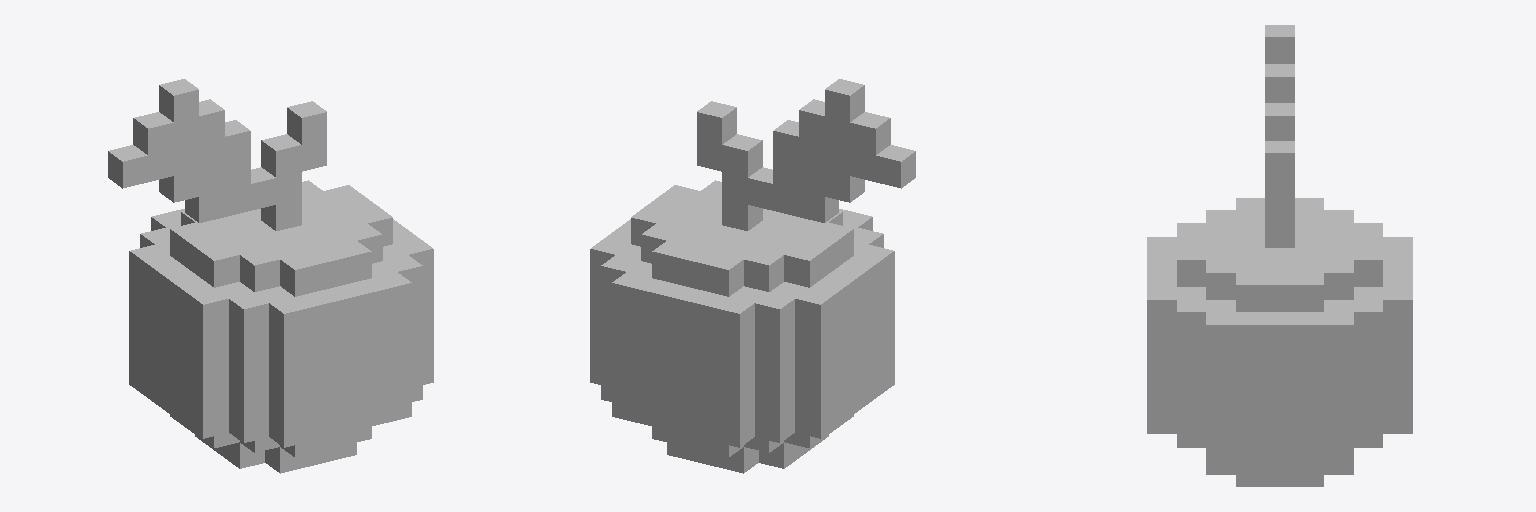
The model's file is apple.obj.
3 views of the same model, side by side, from view 1: azimuth 30°, elevation 25°; view 2: azimuth 150°, elevation 25°; view 3: azimuth 270°, elevation 25° (orthographic).
Parts seen in each view (by area): view 1: object 1; view 2: object 1; view 3: object 1.
Boxes of the visible parts, x1=… form: object 1: x1=108, y1=79, x2=433, y2=473; object 1: x1=590, y1=79, x2=915, y2=473; object 1: x1=1147, y1=25, x2=1412, y2=486.
Size of the model in its own units: 1.1 by 1.4 by 0.9.